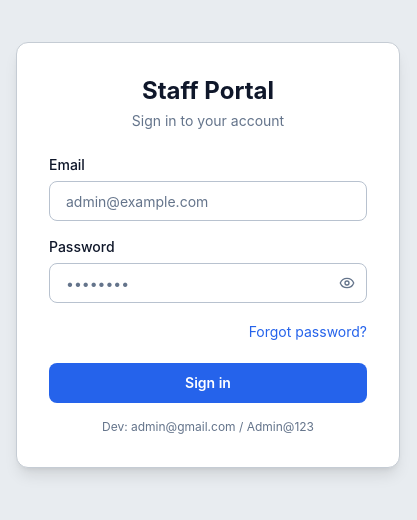
it: AdminLoginPage › shows rate limit message on 429 response
The image size is (417, 520).
In the field with placeholder "admin@example.com": (208, 201) [49, 181, 367, 221], type "admin@test.com"
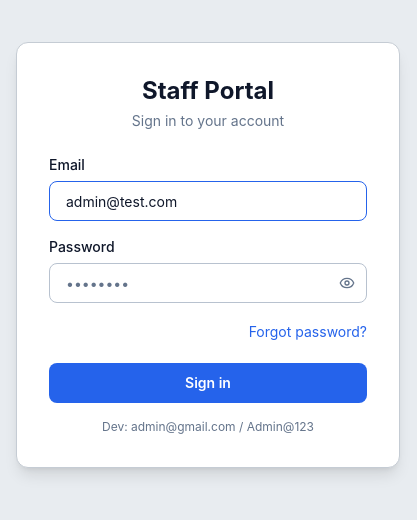
In the password field with placeholder "••••••••": (208, 283) [49, 263, 367, 303], type "password123"
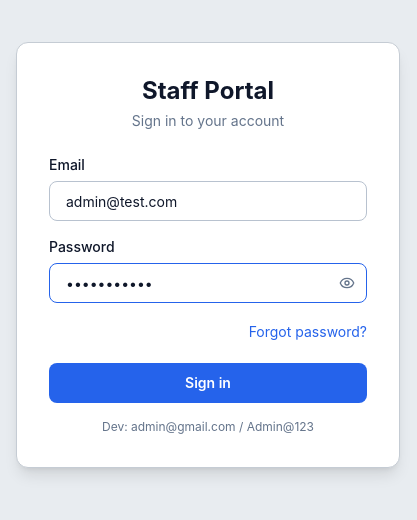
Click the button "Sign in": (208, 383) [49, 363, 367, 403]
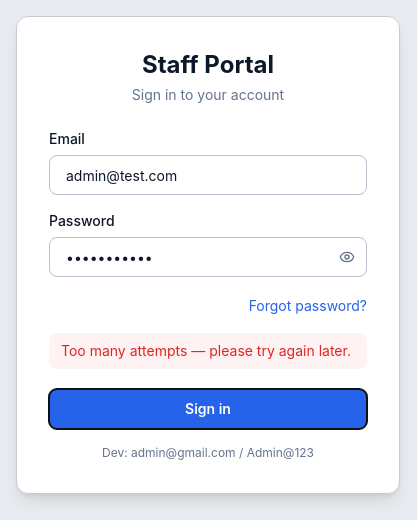
Expected: the text "Too many attempts — please try again later." is shown, [49, 333, 367, 369]
